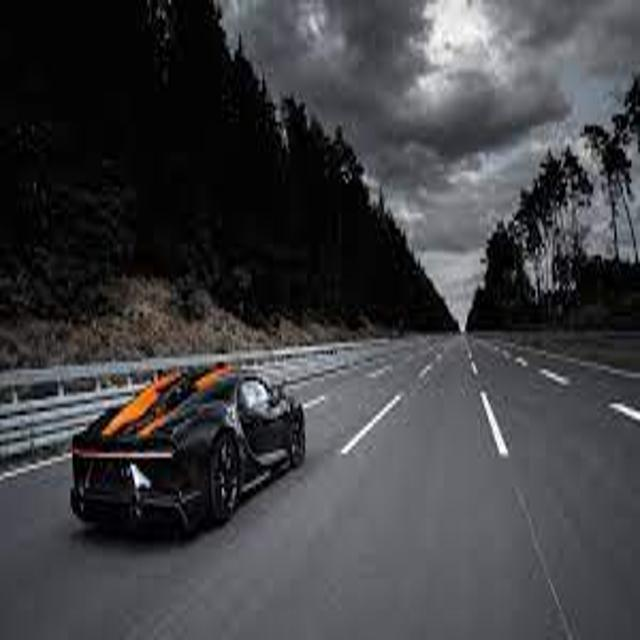car: (72, 368, 306, 530)
